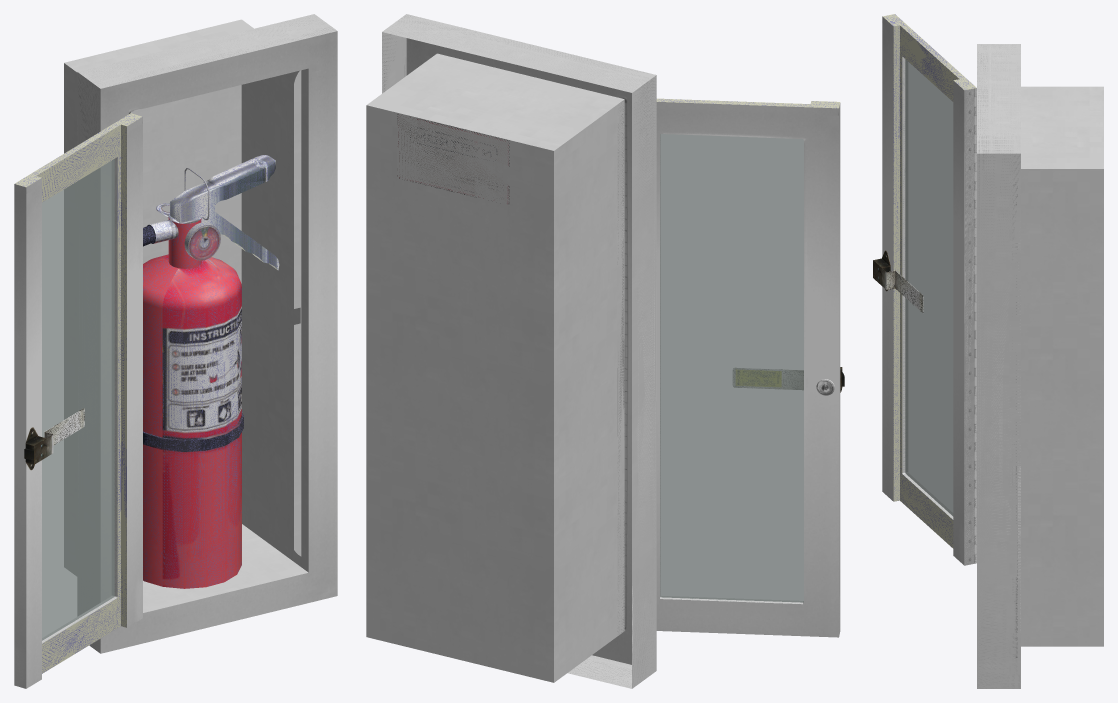
Rendered from extintor.dae.
The picture shows the model from 3 angles, left to right: view 1: azimuth 30°, elevation 25°; view 2: azimuth 150°, elevation 25°; view 3: azimuth 270°, elevation 25°; orthographic projection. The views are drawn at different scales.
Parts seen in each view (by area): view 1: group_0 (×2), group_1 (×2), Group_2 (×4), Component_8, group_2, Component_12, Component_14, Component_7, group_3; view 2: group_0 (×3), group_2, Group_2 (×3), group_1 (×2), group_3; view 3: group_0, group_1, Group_2 (×5), group_2, group_3.
Part boxes in pixels (x1,y1,x2,y2): group_0 (×2): (64, 19, 308, 612); group_1 (×2): (77, 14, 337, 653); Group_2 (×4): (14, 113, 142, 688); Component_8: (143, 217, 241, 588); group_2: (42, 159, 114, 640); Component_12: (170, 155, 279, 270); Component_14: (143, 412, 243, 451); Component_7: (188, 225, 220, 260); group_3: (44, 408, 84, 445); group_0 (×3): (366, 53, 624, 682); group_2: (660, 134, 803, 602); Group_2 (×3): (656, 98, 840, 637); group_1 (×2): (382, 14, 656, 688); group_3: (736, 369, 781, 386); group_0: (1021, 86, 1103, 646); group_1: (977, 44, 1020, 688); Group_2 (×5): (882, 14, 976, 565); group_2: (905, 59, 953, 516); group_3: (886, 270, 923, 312).
Bounding box in the file's own units: 18.17 × 10.46 × 26.75.
